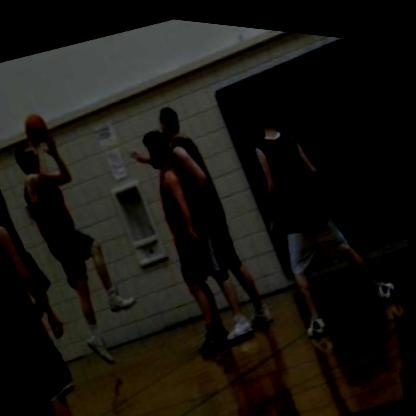basketball: (16, 103, 54, 146)
